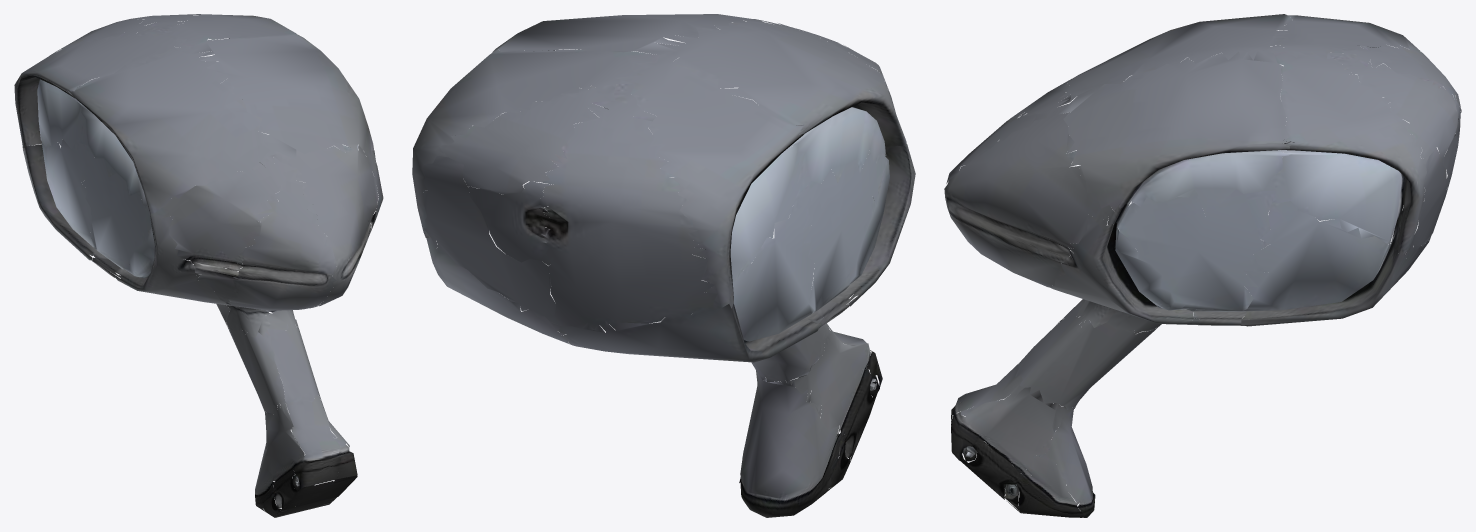
The model's file is common_mirror.glb.
3 renders of one model, left to right at view 1: azimuth 30°, elevation 25°; view 2: azimuth 150°, elevation 25°; view 3: azimuth 270°, elevation 25°, orthographic. The views are drawn at different scales.
Visible parts, largest first — view 1: tripo_node_8e60bec1-9228-4704-86bd-a044bc319971; view 2: tripo_node_8e60bec1-9228-4704-86bd-a044bc319971; view 3: tripo_node_8e60bec1-9228-4704-86bd-a044bc319971.
Boxes of the visible parts, x1,y1,x2,y2 form: tripo_node_8e60bec1-9228-4704-86bd-a044bc319971: (14, 14, 383, 517); tripo_node_8e60bec1-9228-4704-86bd-a044bc319971: (412, 14, 915, 517); tripo_node_8e60bec1-9228-4704-86bd-a044bc319971: (944, 14, 1461, 517).
Bounding box in the file's own units: 0.5971 × 0.9774 × 1.
1 material, 1 textured.
